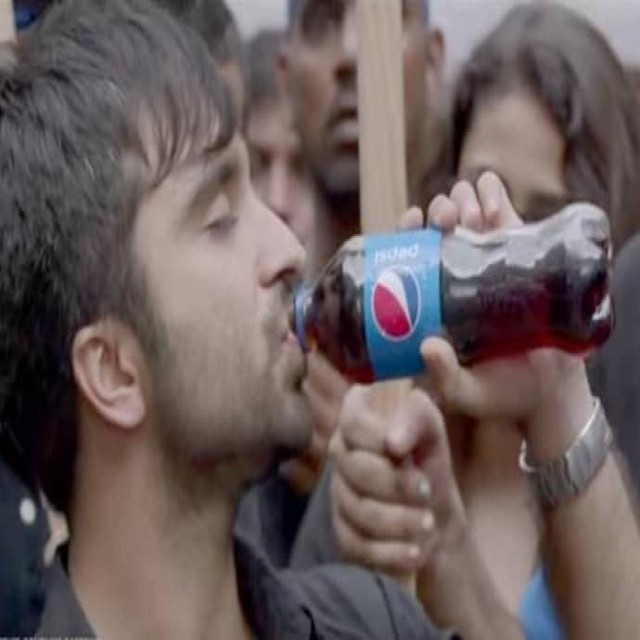pepsi: (369, 264, 424, 341)
